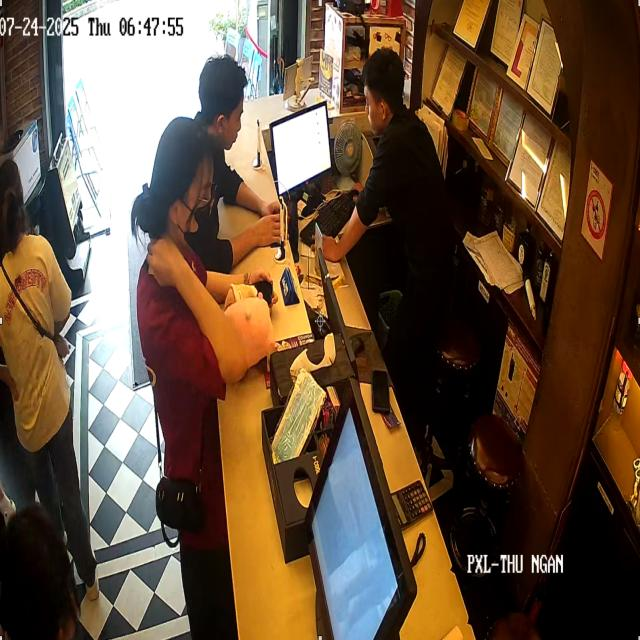khach: (140, 114, 234, 630)
nhan vien: (3, 148, 95, 597), (345, 48, 447, 309), (201, 24, 277, 230)
